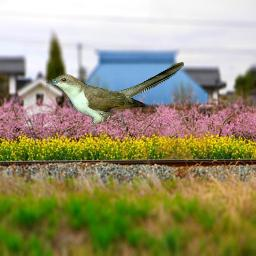Cuckoo: (46, 61, 184, 124)
